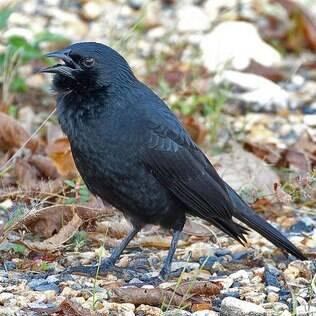grauna: (39, 40, 307, 282)
